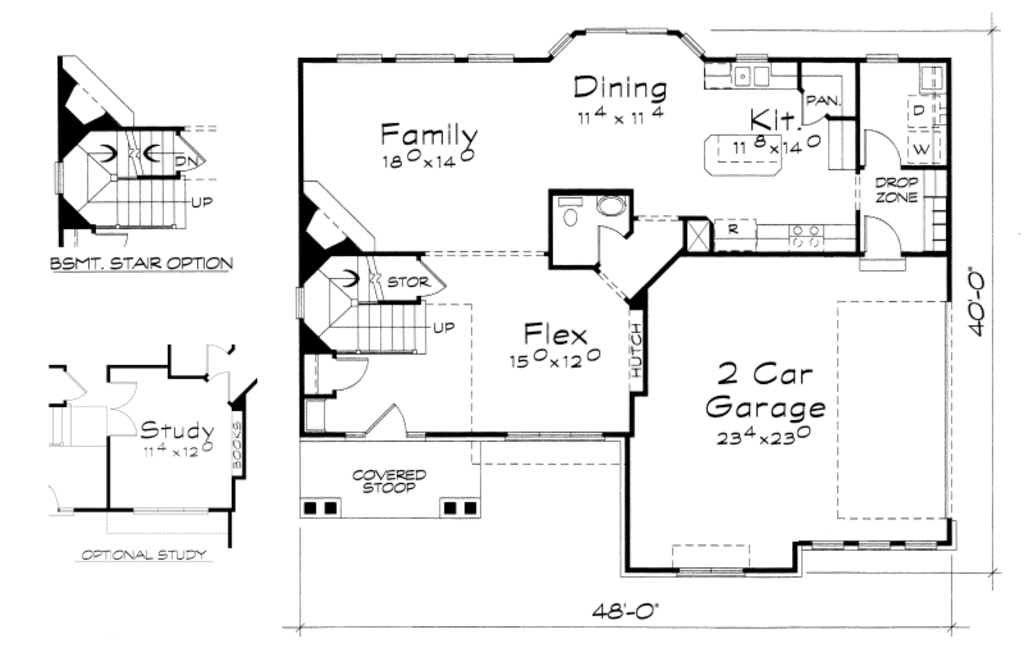door: (860, 212, 908, 279), (357, 396, 414, 443), (862, 121, 908, 177), (105, 381, 149, 439), (168, 128, 213, 177), (325, 351, 373, 394), (591, 224, 629, 273), (199, 336, 243, 377), (414, 256, 450, 300), (798, 85, 831, 129), (54, 365, 84, 403), (205, 369, 235, 404)
stairs: (81, 121, 192, 234), (308, 250, 427, 354)
twin_sink: (727, 63, 781, 90)
window: (666, 556, 756, 581), (123, 502, 217, 519), (462, 43, 518, 69), (393, 48, 459, 69), (289, 276, 317, 323), (541, 29, 579, 62), (899, 533, 939, 560), (672, 30, 704, 63), (49, 156, 75, 195), (504, 433, 607, 442), (857, 534, 895, 555), (333, 52, 386, 67), (806, 539, 847, 551)
